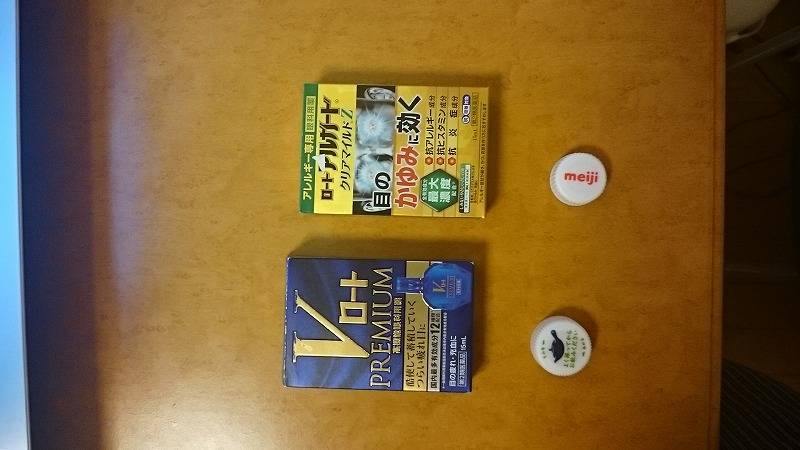A: (525, 311, 603, 379)
B: (544, 147, 614, 211)
C: (298, 77, 493, 226)
D: (278, 254, 482, 402)
